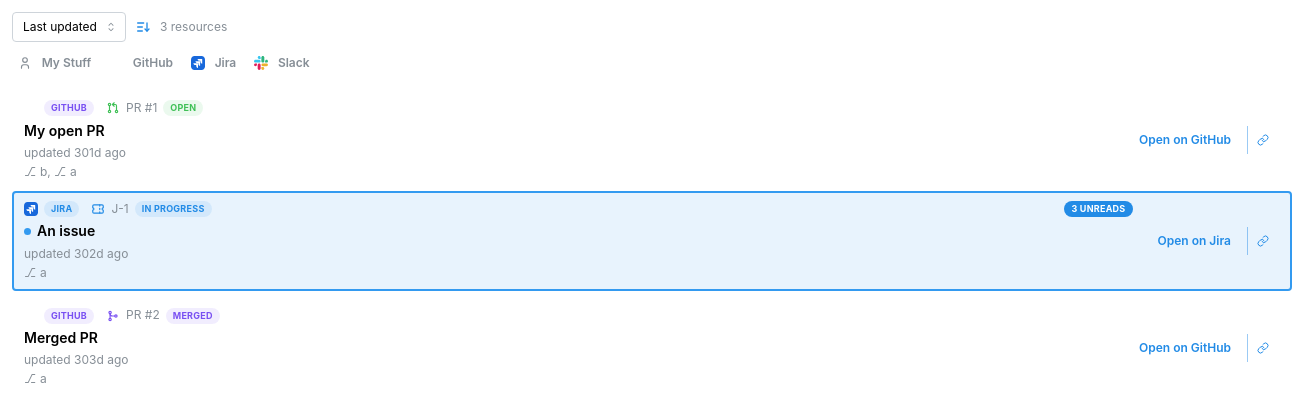
ResourcesPanel › opens a type's subfilters, and filters by them
Expected: the text "My open PR" is shown, x1=24 y1=121 x2=105 y2=141
Step 1. Click the button "GitHub" → (142,63), box x1=103 y1=52 x2=181 y2=74
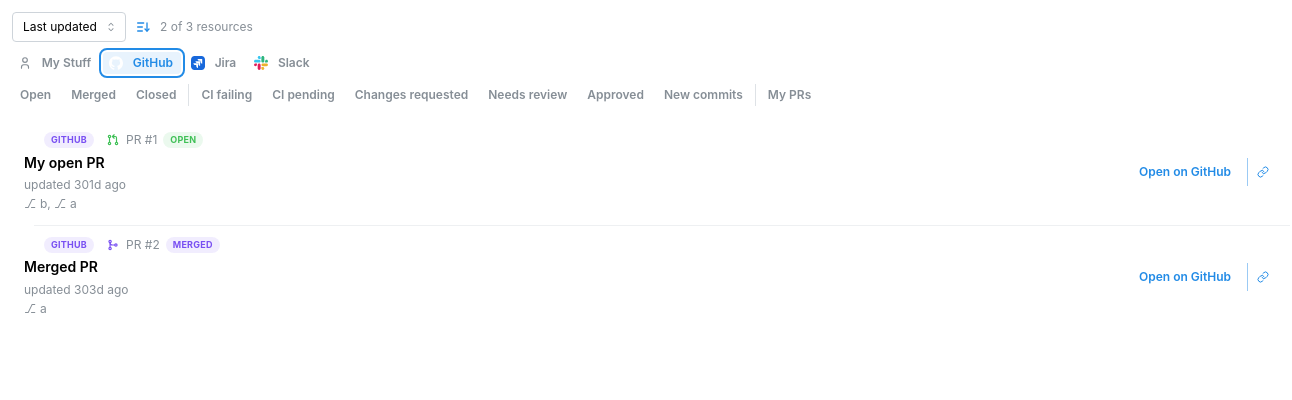
Step 2. Click the button "Merged" → (94,95), box x1=63 y1=84 x2=124 y2=106
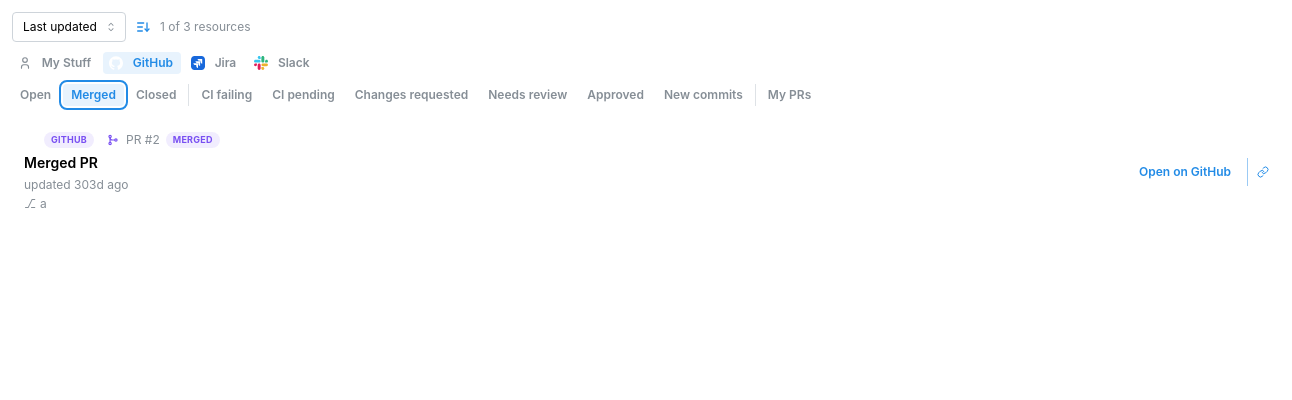
Step 3. Click the button "Merged" → (94,95), box x1=63 y1=84 x2=124 y2=106
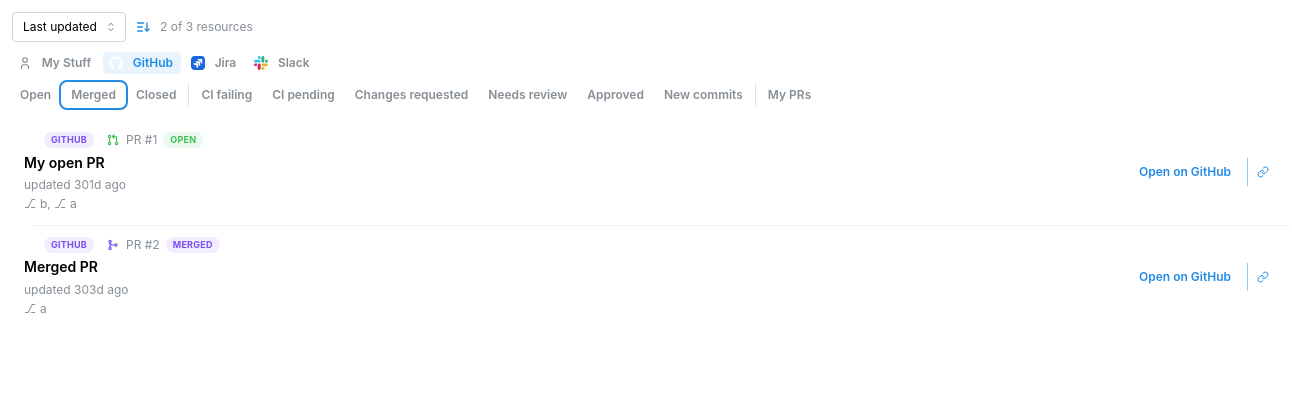
Step 4. Click the button "My PRs" → (790,95), box x1=760 y1=84 x2=819 y2=106
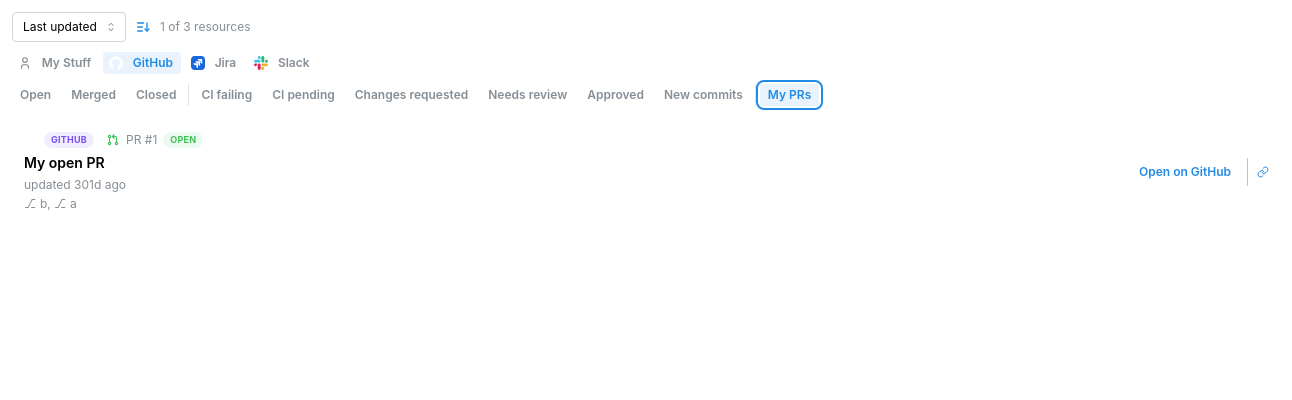
# Jira's statuses come from the data.
Step 5. Click the button "Jira" → (215,63), box x1=185 y1=52 x2=244 y2=74
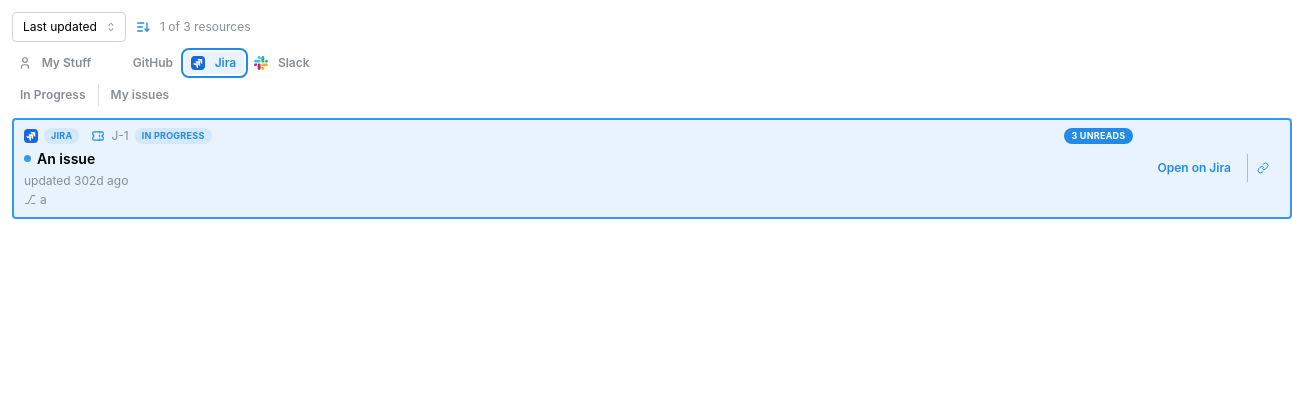
Expected: the button "In Progress" is shown, x1=12 y1=84 x2=94 y2=106
Expected: the button "My issues" is shown, x1=102 y1=84 x2=177 y2=106
